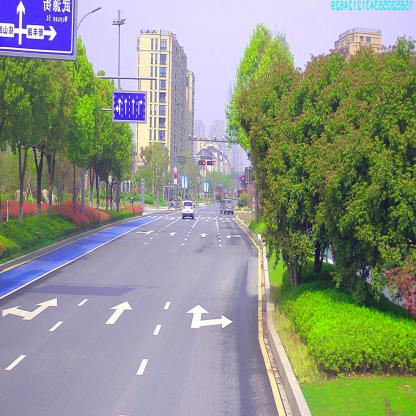traffic-light: (198, 159, 206, 168), (207, 160, 215, 166)
